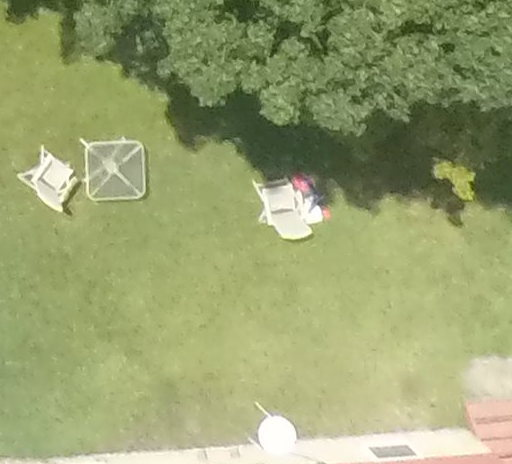chair: (247, 170, 318, 246), (17, 141, 82, 214)
table: (76, 132, 153, 213), (238, 392, 302, 455)
